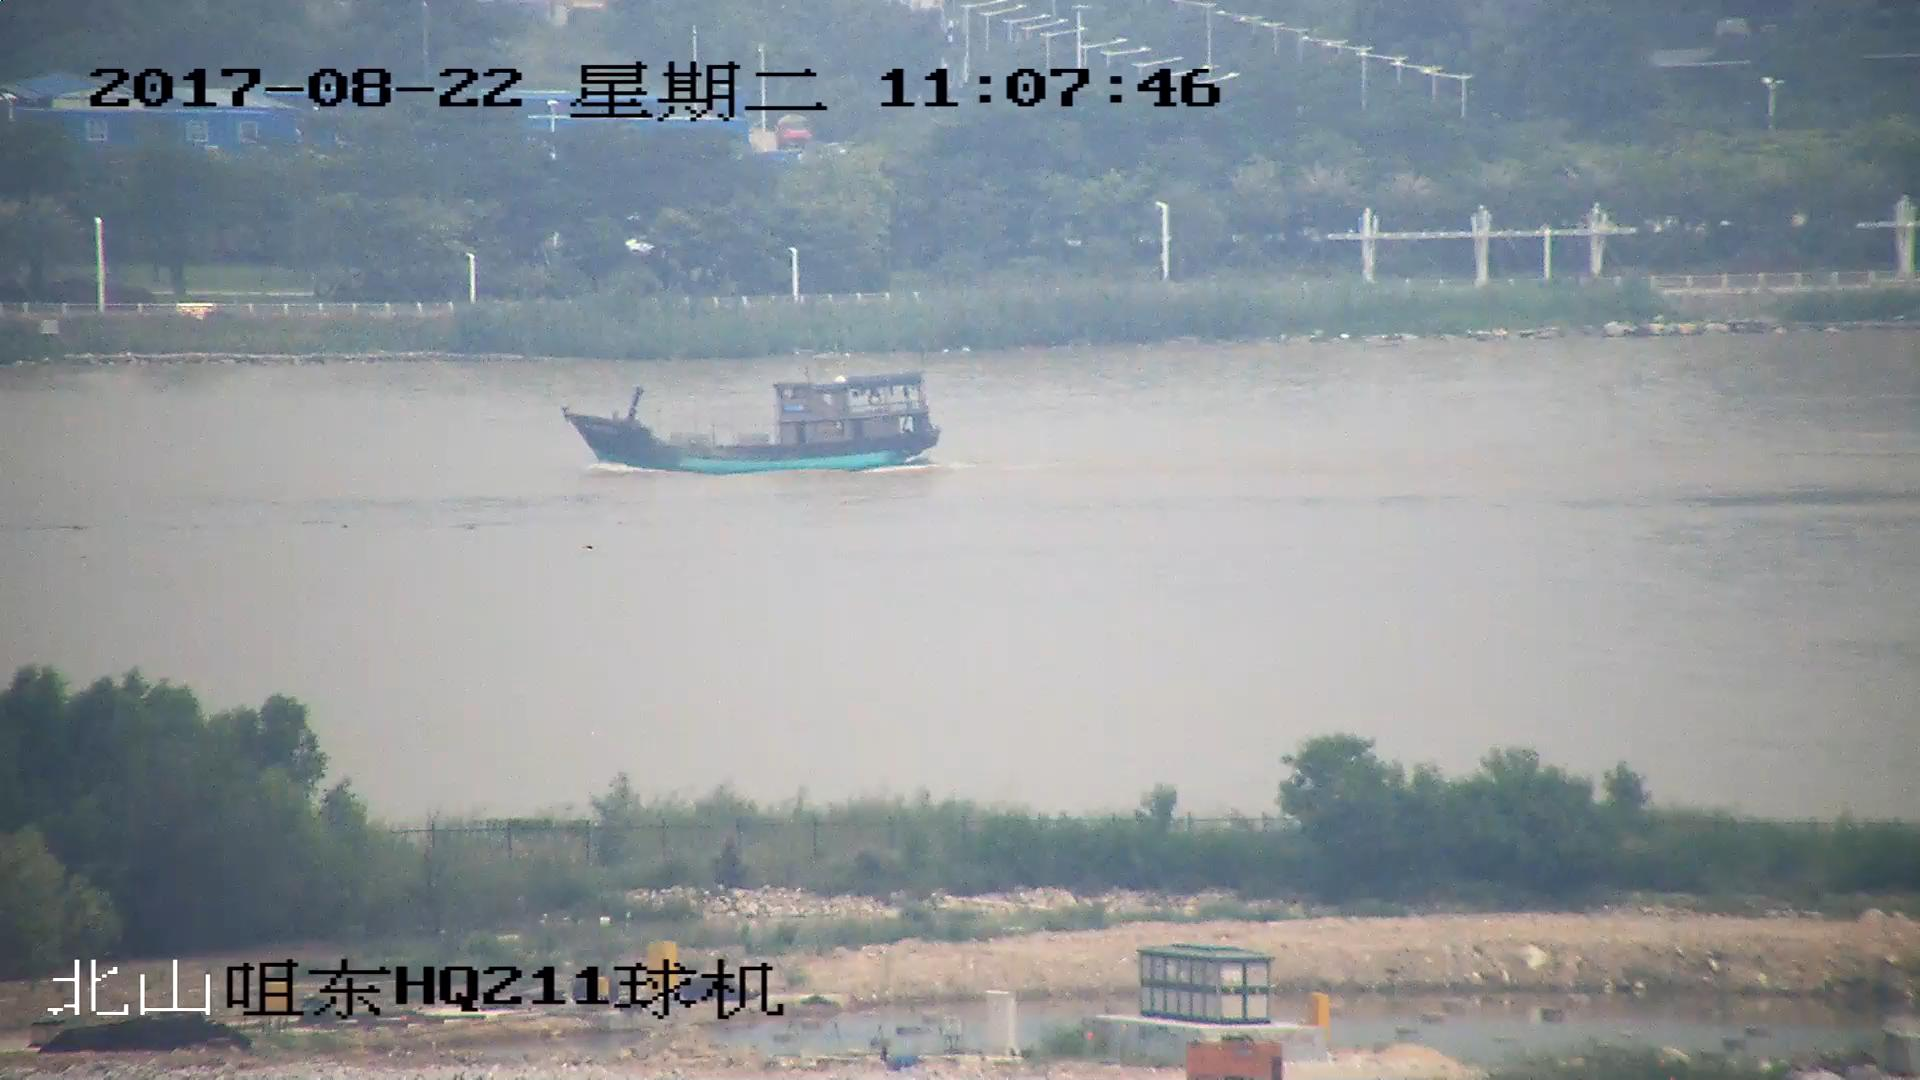fishing boat: (566, 369, 937, 479)
